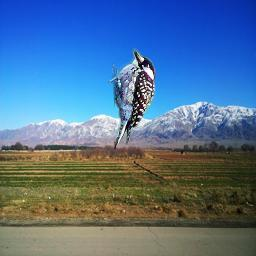Woodpecker: (98, 45, 163, 157)
